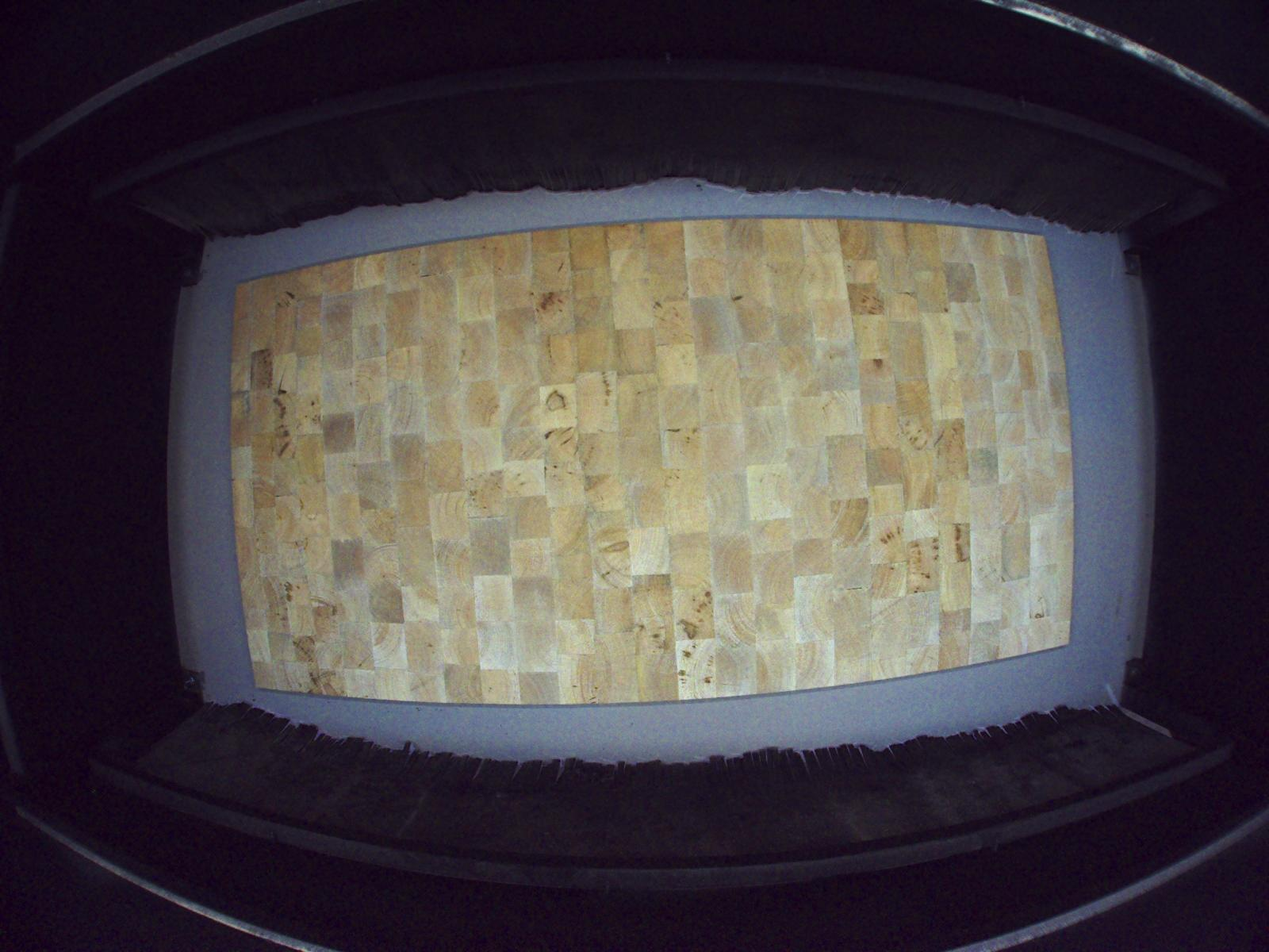sheck_ecuatoriano: (276, 356, 292, 396)
